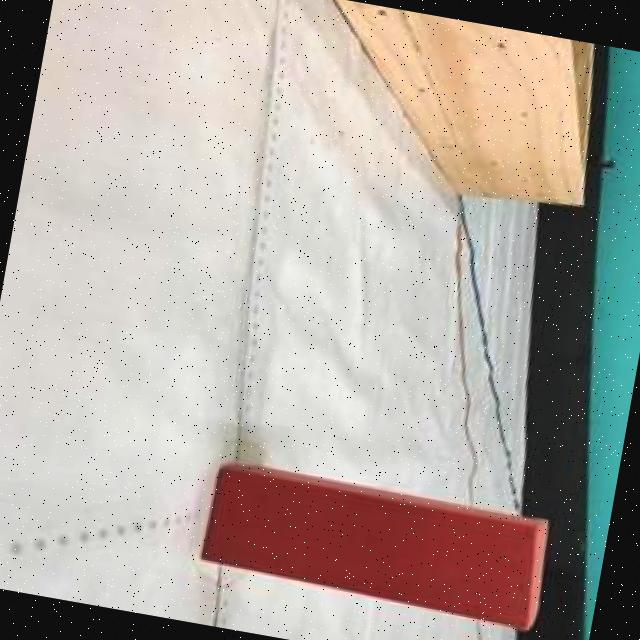redbox: (198, 458, 555, 635)
